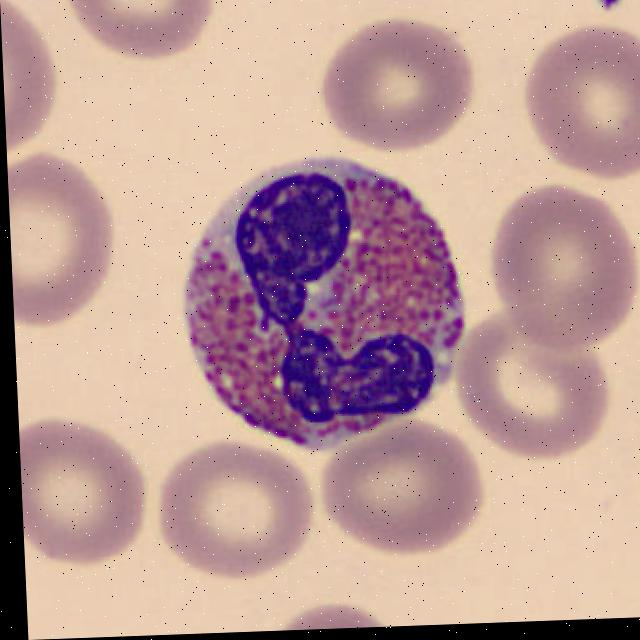eosinophil: (176, 149, 469, 461)
rbc: (484, 179, 640, 356), (448, 310, 616, 471), (7, 154, 140, 338), (319, 425, 493, 565), (18, 391, 145, 574), (156, 435, 316, 578), (312, 19, 480, 154), (522, 22, 640, 184), (61, 0, 225, 79), (0, 0, 66, 159), (264, 589, 400, 631), (621, 391, 640, 510), (368, 0, 463, 10)
